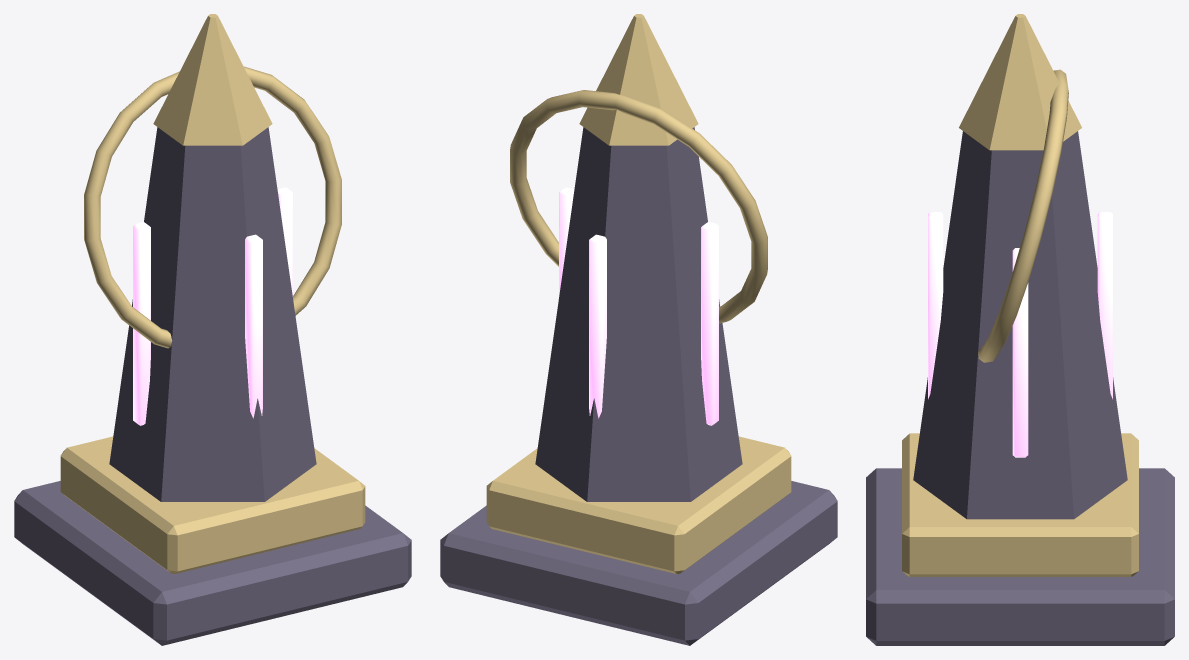
Rendered from citadel_obelisk.glb.
3 renders of one model, left to right at view 1: azimuth 30°, elevation 25°; view 2: azimuth 150°, elevation 25°; view 3: azimuth 270°, elevation 25°, orthographic. The views are drawn at different scales.
Parts seen in each view (by area): view 1: CitadelObelisk_Mesh; view 2: CitadelObelisk_Mesh; view 3: CitadelObelisk_Mesh.
Part boxes in pixels (x1=…): CitadelObelisk_Mesh: x1=14, y1=14, x2=411, y2=645; CitadelObelisk_Mesh: x1=440, y1=14, x2=837, y2=645; CitadelObelisk_Mesh: x1=866, y1=14, x2=1174, y2=645.
Bounding box in the file's own units: 1.2 × 2.44 × 1.2.
